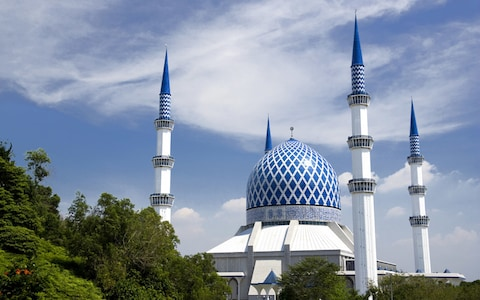Mosque: (126, 2, 434, 276)
